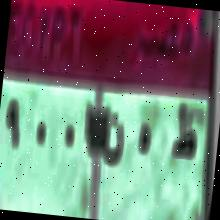0: (29, 110, 54, 164), (61, 116, 86, 156)
9: (1, 88, 26, 158)
Thaa: (166, 100, 203, 169)
haa: (131, 120, 155, 171)
noon: (97, 110, 128, 174)
